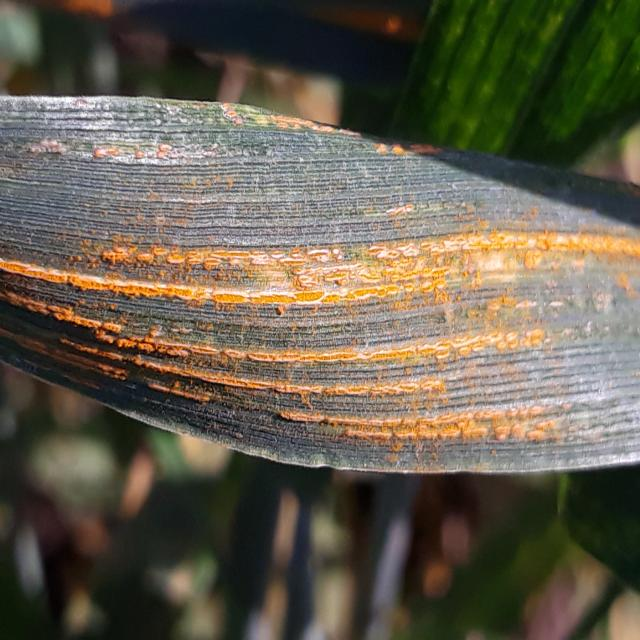yellow_rust: (0, 97, 639, 465), (284, 0, 432, 60), (39, 0, 169, 60)
